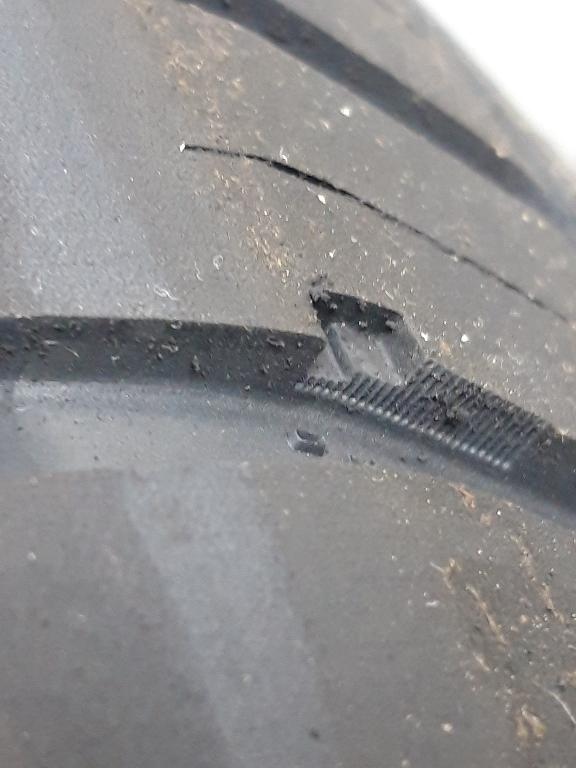temoin:50: (287, 280, 467, 450)
